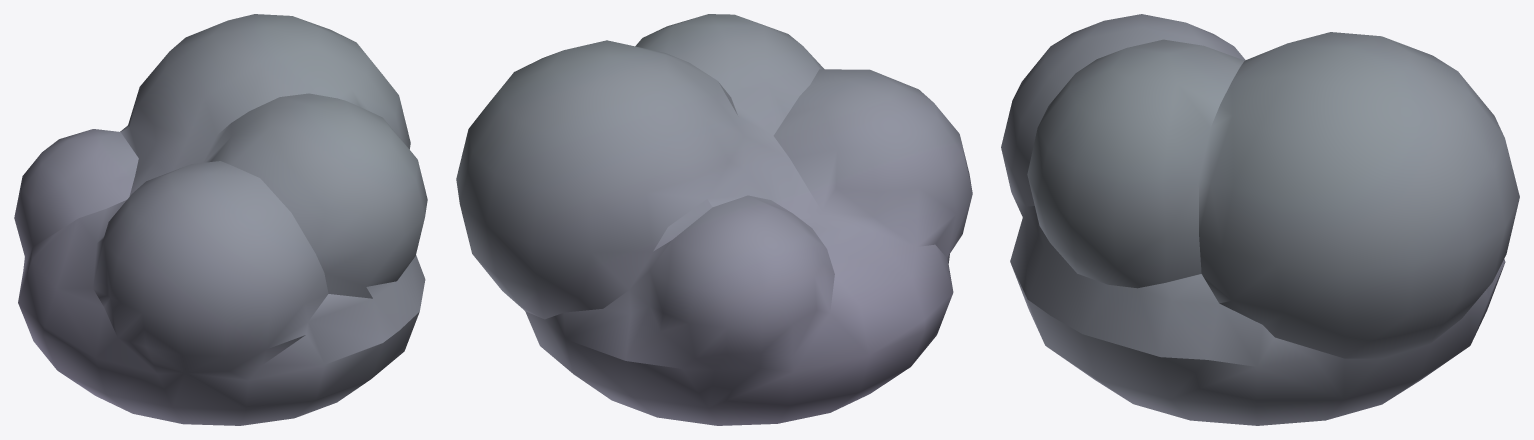
Rendered from Lunarite.fbx.
3 views of the same model, side by side, from view 1: azimuth 30°, elevation 25°; view 2: azimuth 150°, elevation 25°; view 3: azimuth 270°, elevation 25° (orthographic). The views are drawn at different scales.
Visible parts, largest first — view 1: LUNARITE.001; view 2: LUNARITE.001; view 3: LUNARITE.001.
Part boxes in pixels (left/top/right/bottom): LUNARITE.001: left=14, top=14, right=427, bottom=425; LUNARITE.001: left=456, top=14, right=972, bottom=425; LUNARITE.001: left=1001, top=14, right=1519, bottom=425.
Size of the model in its own units: 209 by 167 by 202.
1 material, 1 textured.
